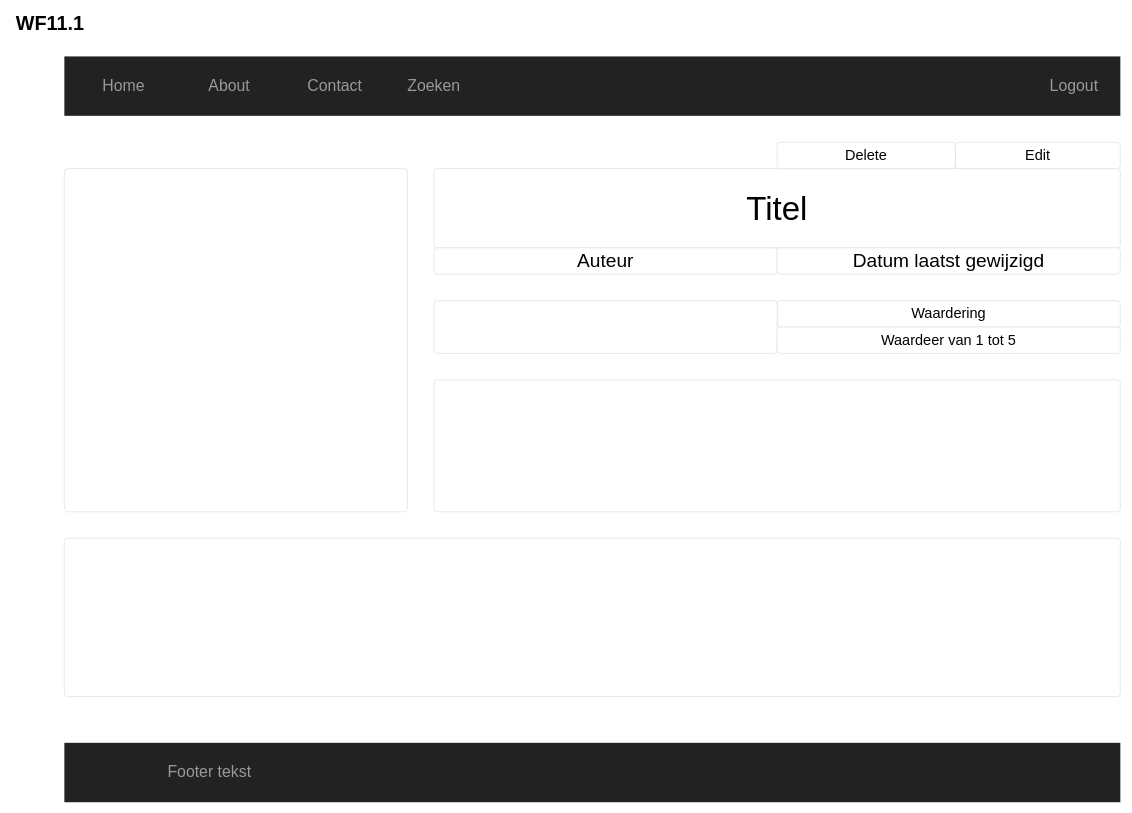
This 1132x813 diagram has some shape labels left out. The shapes that lost their labels are listed below. From the top down, each one's box as (x1, y1, x2, y2) in pixels, then its label:
(64, 168, 408, 512): Afbeelding (optioneel) jpg/png
(433, 300, 777, 353): Tags (opsomming)
(433, 379, 1120, 512): Uitleg
(64, 538, 1120, 697): Codeblok (optioneel)
